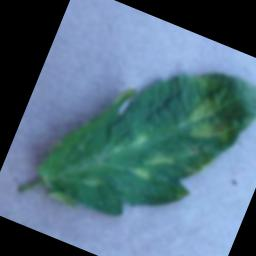Leaf_Mold: (32, 19, 256, 256)
